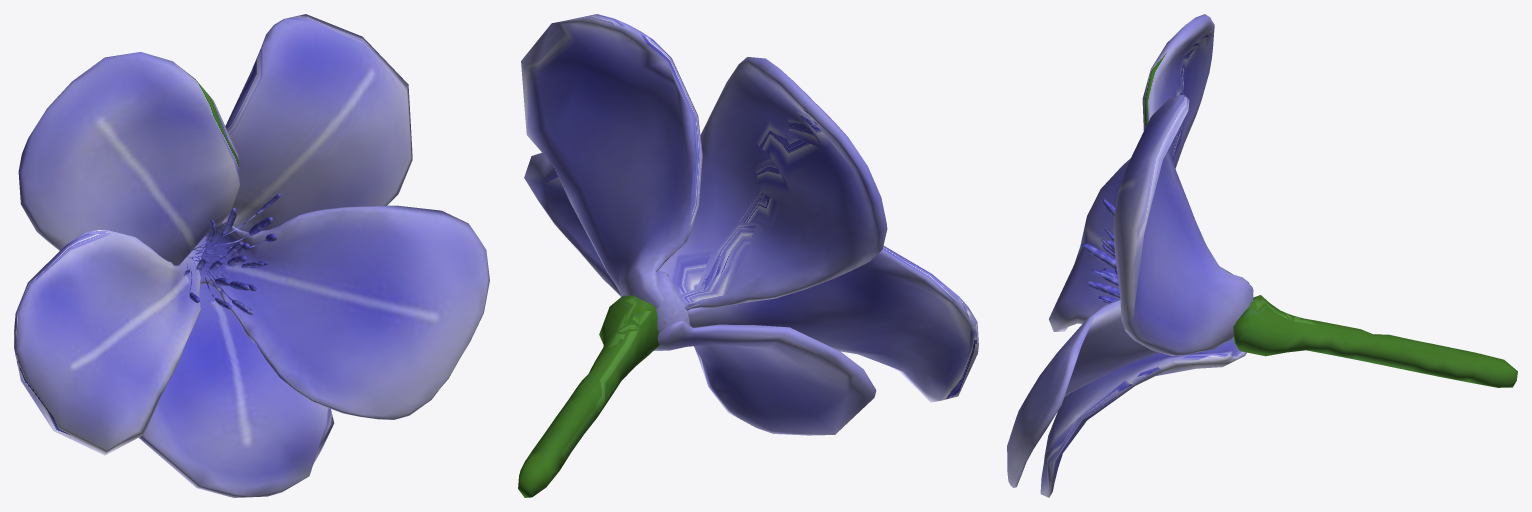
The picture shows the model from 3 angles, left to right: view 1: azimuth 30°, elevation 25°; view 2: azimuth 150°, elevation 25°; view 3: azimuth 270°, elevation 25°; orthographic projection. The views are drawn at different scales.
Parts seen in each view (by area): view 1: sansevieriaplant.011; view 2: sansevieriaplant.011; view 3: sansevieriaplant.011.
Part boxes in pixels (x1,y1,x2,y2): sansevieriaplant.011: [14, 14, 489, 497]; sansevieriaplant.011: [518, 14, 978, 497]; sansevieriaplant.011: [1007, 14, 1517, 497].
Bounding box in the file's own units: 1.31 × 1.16 × 1.24.
1 material, 1 textured.
